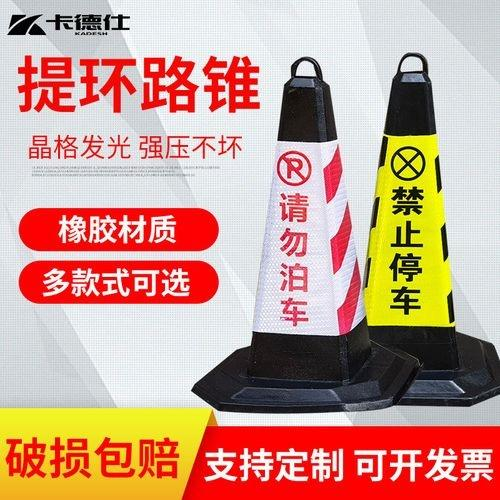cone_barrel: (218, 60, 377, 409), (362, 54, 485, 381)
